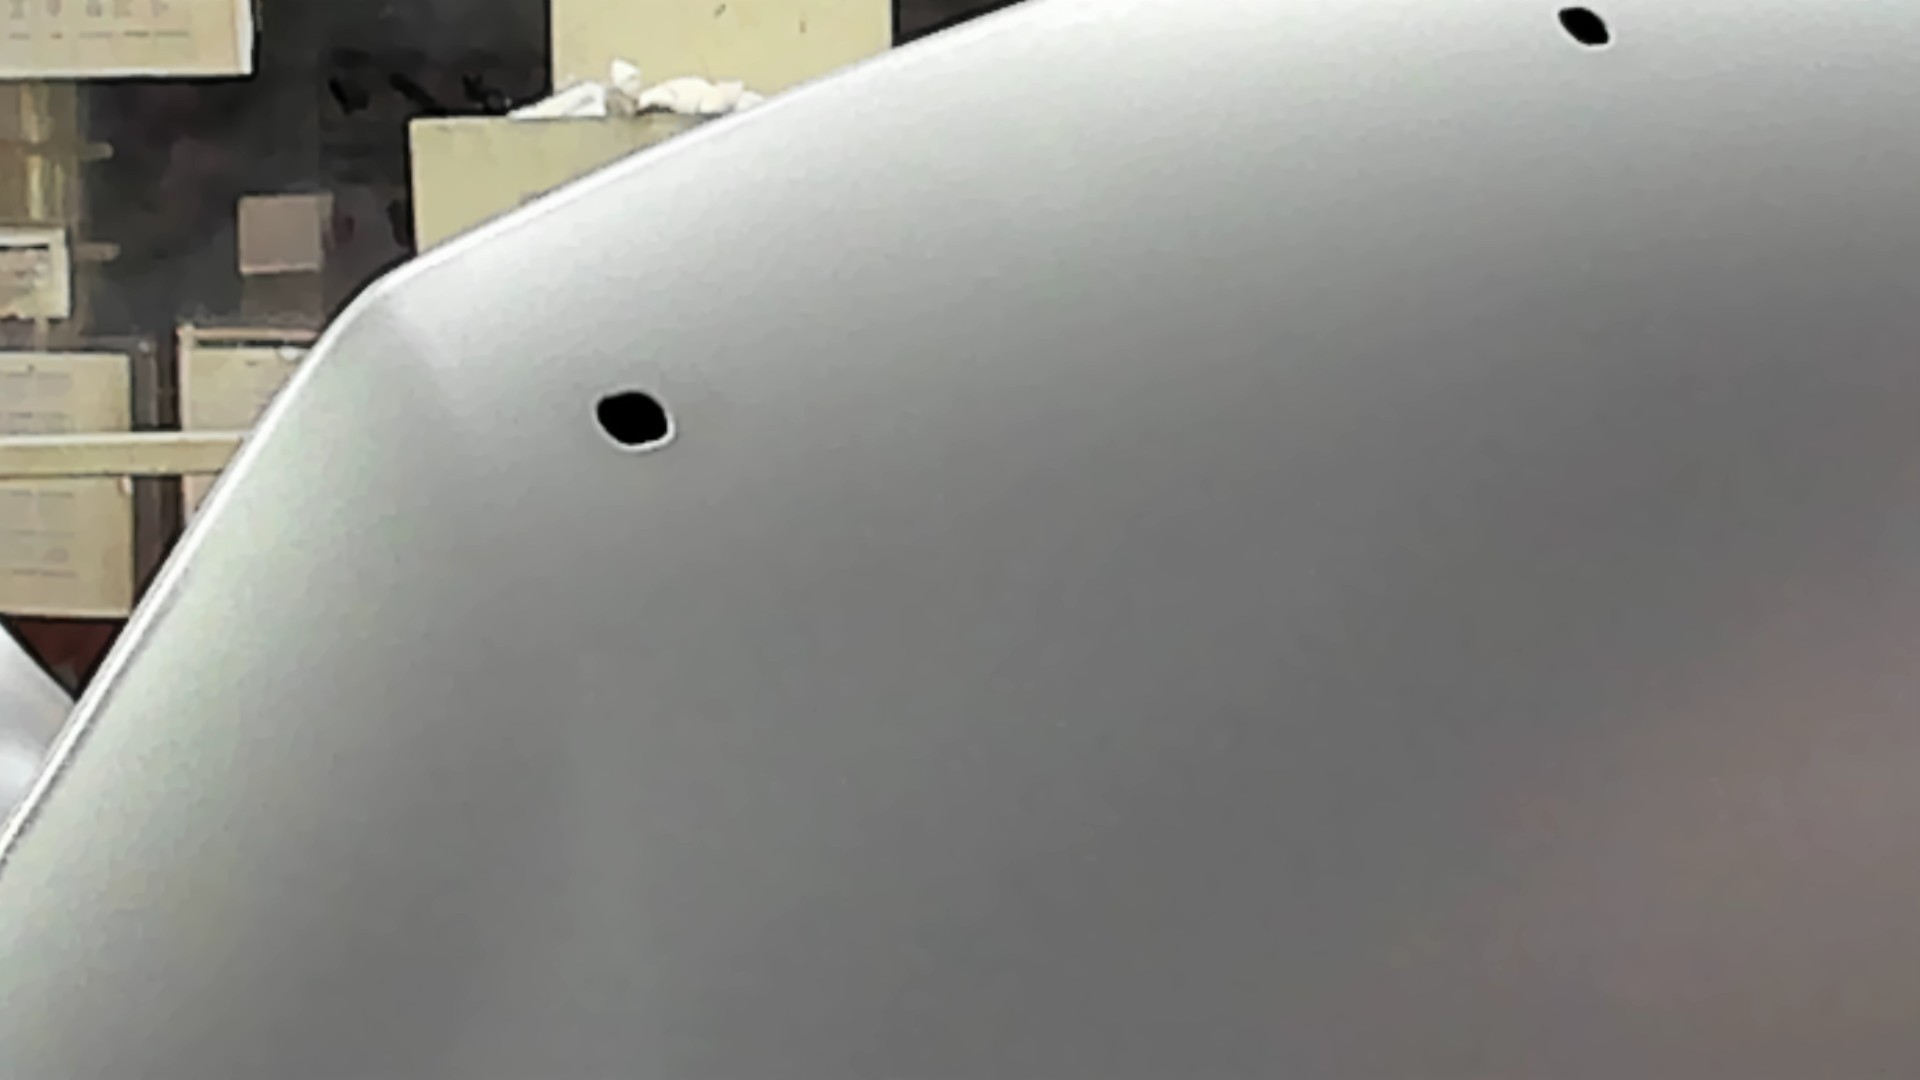amorfo: (593, 386, 675, 455), (1553, 4, 1615, 55)
